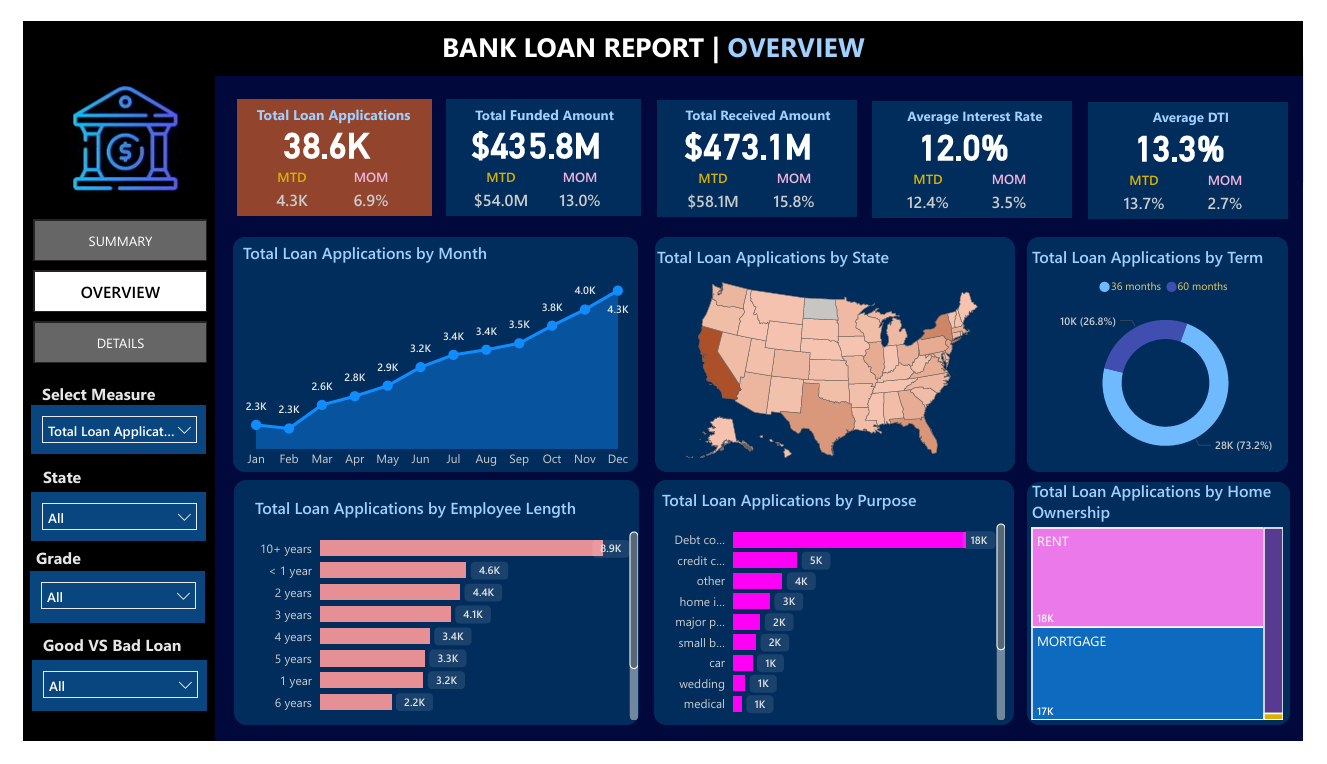

The page's visual inventory and layout, read from the dashboard file:
{"tool":"powerbi","page":{"name":"OVERVIEW","canvas":[1280,720],"ordinal":1},"visuals":[{"type":"shape","box":[0,0,1280.3,55],"z":0},{"type":"shape","box":[0,54.3,191.8,666],"z":1000},{"type":"textbox","box":[401.7,1.2,454.8,54.3],"z":2000},{"type":"shape","box":[423.9,77.5,194.9,116.6],"z":2000,"group":"g2"},{"type":"shape","box":[214.2,78.4,194.9,116.6],"z":2000,"group":"g1"},{"type":"shape","box":[633.4,78.8,200.7,116.6],"z":2000,"group":"g3"},{"type":"shape","box":[848.9,80,200.7,116.6],"z":2000,"group":"g4"},{"type":"shape","box":[1064.5,81.2,200.7,116.6],"z":2000,"group":"g5"},{"type":"group","id":"g1","title":"Group 1","box":[208.7,78.4,200.3,117.2],"z":3000},{"type":"group","id":"g2","title":"Group 1","box":[418.4,77.5,200,116.2],"z":4000},{"type":"card","fields":{"Values":["bank_loan_data.Total Funded Amount"]},"box":[418.4,95.3,186.6,49.4],"z":4000,"group":"g2"},{"type":"card","fields":{"Values":["bank_loan_data.Total Loan Applications"]},"box":[208.7,96.2,186.6,49.4],"z":4000,"group":"g1"},{"type":"card","fields":{"Values":["bank_loan_data.Total Amount Received"]},"box":[627.7,96.6,192.2,49.4],"z":4000,"group":"g3"},{"type":"card","fields":{"Values":["bank_loan_data.Avg Interest Rate"]},"box":[843.2,97.8,192.2,49.4],"z":4000,"group":"g4"},{"type":"card","fields":{"Values":["bank_loan_data.Avg DTI"]},"box":[1058.8,99,192.2,49.4],"z":4000,"group":"g5"},{"type":"textbox","title":"Total Funded Amount","box":[423.9,77.5,194.9,42.5],"z":5000,"group":"g2"},{"type":"textbox","box":[214.2,78.4,194.9,42.5],"z":5000,"group":"g1"},{"type":"textbox","title":"Total Funded Amount","box":[633.4,78.8,200.7,42.5],"z":5000,"group":"g3"},{"type":"textbox","title":"Total Funded Amount","box":[848.9,80,200.7,42.5],"z":5000,"group":"g4"},{"type":"textbox","title":"Total Funded Amount","box":[1064.5,81.2,200.7,42.5],"z":5000,"group":"g5"},{"type":"shape","box":[208.6,214.8,405,235],"z":5000},{"type":"group","id":"g3","title":"Group 1","box":[627.7,78.8,206.2,116.2],"z":6000},{"type":"card","title":"MTD","fields":{"Values":["bank_loan_data.MTD Funded Amount"]},"box":[433.7,145.2,88.1,49.5],"z":6000,"group":"g2"},{"type":"card","title":"MTD","fields":{"Values":["bank_loan_data.MTD Loan Applications"]},"box":[224,146.1,88.1,49.5],"z":6000,"group":"g1"},{"type":"card","title":"MTD","fields":{"Values":["bank_loan_data.MTD Total Amount Received"]},"box":[643.4,146.5,90.7,49.5],"z":6000,"group":"g3"},{"type":"card","title":"MTD","fields":{"Values":["bank_loan_data.MTD Avg Interest Rate"]},"box":[858.9,147.7,90.7,49.5],"z":6000,"group":"g4"},{"type":"card","title":"MTD","fields":{"Values":["bank_loan_data.MTD Avg DTI"]},"box":[1074.5,148.9,90.7,49.5],"z":6000,"group":"g5"},{"type":"group","id":"g4","title":"Group 1","box":[843.2,80,206.2,116.2],"z":7000},{"type":"card","title":"MOM","fields":{"Values":["bank_loan_data.MOM Total Funded Amount"]},"box":[512.1,145.2,88.1,49.5],"z":7000,"group":"g2"},{"type":"card","title":"MOM","fields":{"Values":["bank_loan_data.MOM Loan Applications"]},"box":[302.4,146.1,88.1,49.5],"z":7000,"group":"g1"},{"type":"card","title":"MOM","fields":{"Values":["bank_loan_data.MOM Total Amount Received"]},"box":[724.2,146.5,90.7,49.5],"z":7000,"group":"g3"},{"type":"card","title":"MOM","fields":{"Values":["bank_loan_data.MOM Avg Interest Rate"]},"box":[939.7,147.7,90.7,49.5],"z":7000,"group":"g4"},{"type":"card","title":"MOM","fields":{"Values":["bank_loan_data.MOM Avg DTI"]},"box":[1155.3,148.9,90.7,49.5],"z":7000,"group":"g5"},{"type":"group","id":"g5","title":"Group 1","box":[1058.8,81.2,206.2,116.2],"z":8000},{"type":"slicer","fields":{"Values":["bank_loan_data.address_state"]},"box":[8.4,470.8,174.9,49.5],"z":9000},{"type":"textbox","box":[14.5,439.1,91.7,37.4],"z":10000},{"type":"slicer","fields":{"Values":["bank_loan_data.grade"]},"box":[7.2,550.1,174.9,51.9],"z":11000},{"type":"textbox","box":[7.2,520,165.3,43.4],"z":12000},{"type":"slicer","fields":{"Values":["bank_loan_data.Good vs Bad Loan"]},"box":[8.8,638.8,175,51.2],"z":13000},{"type":"textbox","box":[13.8,607,156.2,40],"z":14000},{"type":"areaChart","fields":{"Y":["bank_loan_data.Total Loan Applications"],"Category":["Date Table.Month"]},"box":[213.5,219.6,398.1,235.3],"z":15000},{"type":"slicer","fields":{"Values":["Select Measure.Select Measure"]},"box":[8.4,383.6,174.9,49.5],"z":16000},{"type":"textbox","box":[13.3,355.9,168.9,39.8],"z":17000},{"type":"shape","box":[631,214.7,360,235.3],"z":18000},{"type":"shapeMap","fields":{"Value":["bank_loan_data.Total Loan Applications"],"Category":["bank_loan_data.address_state"]},"box":[628.3,224.4,359.5,225.6],"z":19000},{"type":"shape","box":[1002.6,214.7,261.8,235.3],"z":20000},{"type":"donutChart","fields":{"Y":["bank_loan_data.Total Loan Applications"],"Category":["bank_loan_data.term"]},"box":[1002.6,224.4,277.5,225.6],"z":21000},{"type":"shape","box":[209.9,458.4,405.4,244.9],"z":22000},{"type":"barChart","fields":{"Y":["bank_loan_data.Total Loan Applications"],"Category":["bank_loan_data.emp_length"]},"box":[225.6,475.3,393.3,228],"z":23000},{"type":"shape","box":[629.8,458.4,360.7,244.9],"z":24000},{"type":"barChart","fields":{"Y":["bank_loan_data.Total Loan Applications"],"Category":["bank_loan_data.purpose"]},"box":[633.4,466.9,352.3,236.5],"z":25000},{"type":"shape","box":[1002.6,459.7,263,243.7],"z":26000},{"type":"treemap","fields":{"Values":["bank_loan_data.Total Loan Applications"],"Group":["bank_loan_data.home_ownership"]},"box":[1002.6,458.4,261.8,244.9],"z":27000},{"type":"image","box":[0,36.2,208.7,196.6],"z":28000},{"type":"pageNavigator","box":[10,198.1,173.7,144.7],"z":29000}]}

Visuals, with their boxes in screenshot pixels (x1, y1, x2, y2), scaled from the page's 1280x720 canvas onto the 1327x764 screenshot:
shape: region(0, 0, 1326, 58)
shape: region(0, 58, 199, 763)
textbox: region(416, 1, 888, 59)
shape: region(439, 82, 642, 206)
shape: region(222, 83, 424, 207)
shape: region(657, 84, 865, 207)
shape: region(880, 85, 1088, 209)
shape: region(1104, 86, 1312, 210)
"Group 1" group: region(216, 83, 424, 208)
"Group 1" group: region(434, 82, 641, 206)
card - bank_loan_data.Total Funded Amount: region(434, 101, 627, 154)
card - bank_loan_data.Total Loan Applications: region(216, 102, 410, 154)
card - bank_loan_data.Total Amount Received: region(651, 103, 850, 155)
card - bank_loan_data.Avg Interest Rate: region(874, 104, 1073, 156)
card - bank_loan_data.Avg DTI: region(1098, 105, 1297, 157)
"Total Funded Amount" textbox: region(439, 82, 642, 127)
textbox: region(222, 83, 424, 128)
"Total Funded Amount" textbox: region(657, 84, 865, 129)
"Total Funded Amount" textbox: region(880, 85, 1088, 130)
"Total Funded Amount" textbox: region(1104, 86, 1312, 131)
shape: region(216, 228, 636, 477)
"Group 1" group: region(651, 84, 865, 207)
"MTD" card: region(450, 154, 541, 207)
"MTD" card: region(232, 155, 324, 208)
"MTD" card: region(667, 155, 761, 208)
"MTD" card: region(890, 157, 984, 209)
"MTD" card: region(1114, 158, 1208, 211)
"Group 1" group: region(874, 85, 1088, 208)
"MOM" card: region(531, 154, 622, 207)
"MOM" card: region(314, 155, 405, 208)
"MOM" card: region(751, 155, 845, 208)
"MOM" card: region(974, 157, 1068, 209)
"MOM" card: region(1198, 158, 1292, 211)
"Group 1" group: region(1098, 86, 1311, 209)
slicer - bank_loan_data.address_state: region(9, 500, 190, 552)
textbox: region(15, 466, 110, 506)
slicer - bank_loan_data.grade: region(7, 584, 189, 639)
textbox: region(7, 552, 179, 598)
slicer - bank_loan_data.Good vs Bad Loan: region(9, 678, 191, 732)
textbox: region(14, 644, 176, 687)
areaChart - bank_loan_data.Total Loan Applications x Date Table.Month: region(221, 233, 634, 483)
slicer - Select Measure.Select Measure: region(9, 407, 190, 460)
textbox: region(14, 378, 189, 420)
shape: region(654, 228, 1027, 478)
shapeMap - bank_loan_data.Total Loan Applications x bank_loan_data.address_state: region(651, 238, 1024, 478)
shape: region(1039, 228, 1311, 478)
donutChart - bank_loan_data.Total Loan Applications x bank_loan_data.term: region(1039, 238, 1326, 478)
shape: region(218, 486, 638, 746)
barChart - bank_loan_data.Total Loan Applications x bank_loan_data.emp_length: region(234, 504, 642, 746)
shape: region(653, 486, 1027, 746)
barChart - bank_loan_data.Total Loan Applications x bank_loan_data.purpose: region(657, 495, 1022, 746)
shape: region(1039, 488, 1312, 746)
treemap - bank_loan_data.Total Loan Applications x bank_loan_data.home_ownership: region(1039, 486, 1311, 746)
image: region(0, 38, 216, 247)
pageNavigator: region(10, 210, 190, 364)
